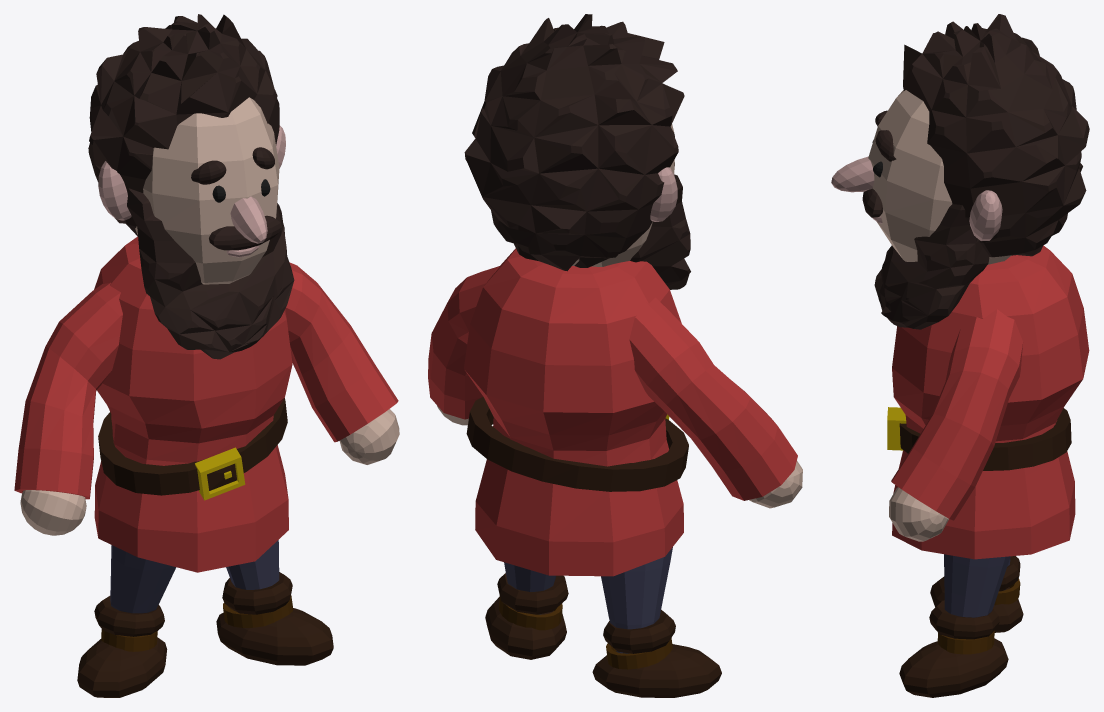
Rendered from Character04.fbx.
3 renders of one model, left to right at view 1: azimuth 30°, elevation 25°; view 2: azimuth 150°, elevation 25°; view 3: azimuth 270°, elevation 25°, orthographic. The views are drawn at different scales.
Visible parts, largest first — view 1: ClothesSeller; view 2: ClothesSeller; view 3: ClothesSeller.
Boxes of the visible parts, x1=… form: ClothesSeller: x1=14, y1=14, x2=399, y2=697; ClothesSeller: x1=428, y1=14, x2=802, y2=697; ClothesSeller: x1=831, y1=14, x2=1089, y2=697.
Bounding box in the file's own units: 0.299 × 0.4986 × 0.1873.
